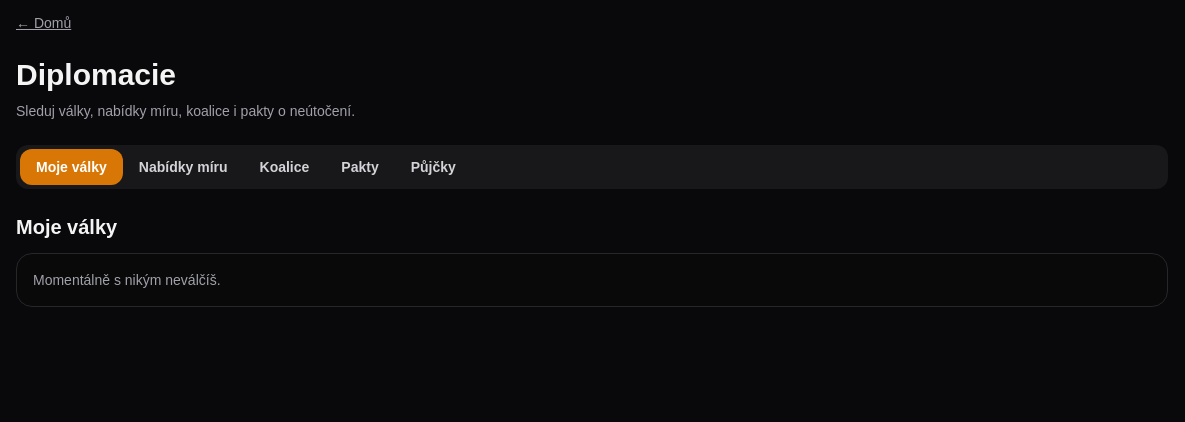
DiplomacyPage › switches to the loans tab and renders the expanded loans panel
Click the button "Půjčky". click: (433, 167)
box: [395,149,472,185]
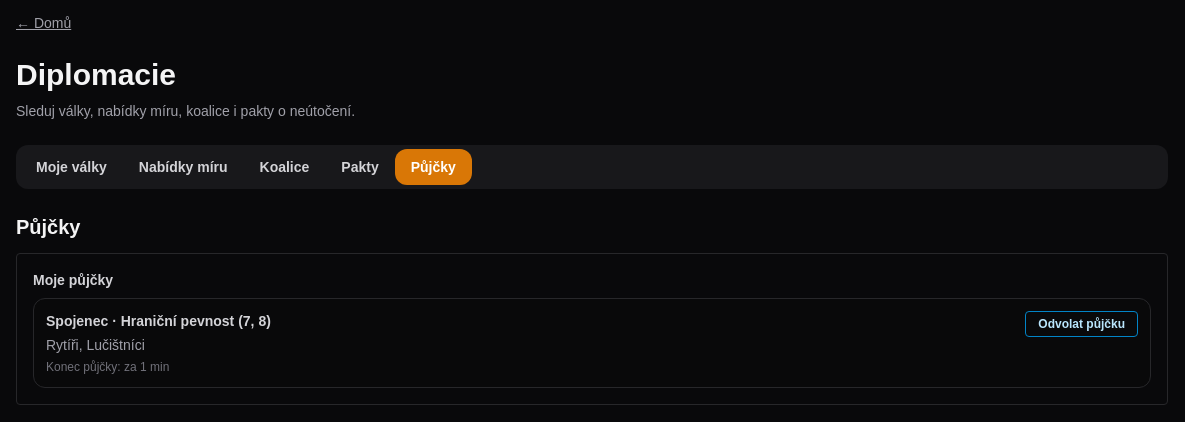
Check: the heading "Půjčky" is shown, box [16,216,80,238]
Check: the heading "Moje půjčky" is shown, box [33,270,113,290]
Check: the text "Spojenec · Hraniční pevnost (7, 8)" is shown, box [46,311,271,331]
